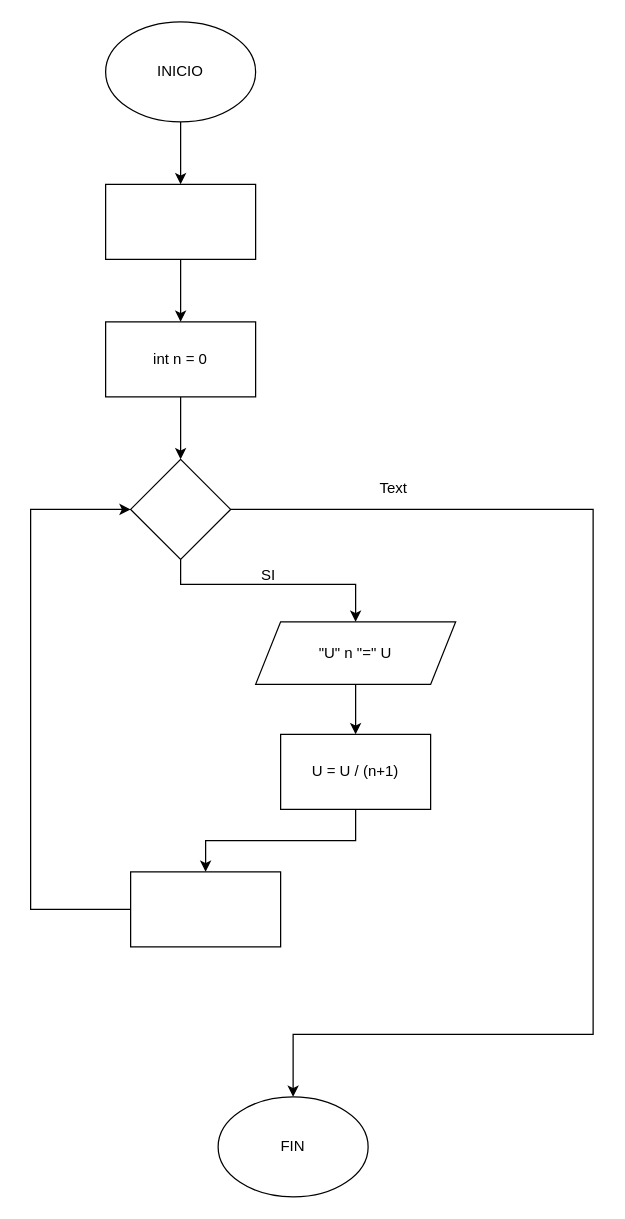
Image size: 625x1219. Some labels were removed from this diagram. Each missing label, with the centre of its shape:
"float U = 1" goes at (x=180, y=221).
"n = n + 1" goes at (x=205, y=909).
"n<= 10" goes at (x=180, y=508).
